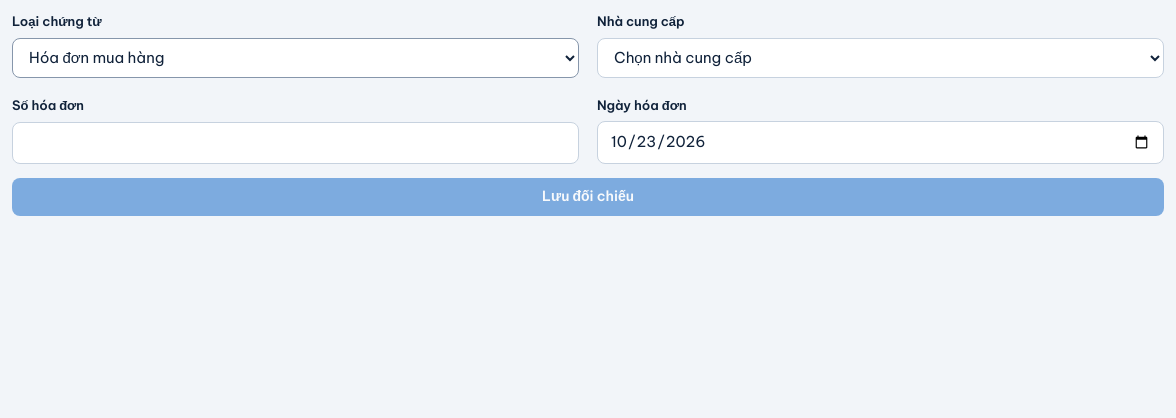
Test case: shows ordered, received and invoiced quantities with the order price source and flags differences (FB10)
The image size is (1176, 418).
Select "NCC Hòa Phát" in the dropdown labelled "Nhà cung cấp" at (880, 58), box [597,38,1164,78]
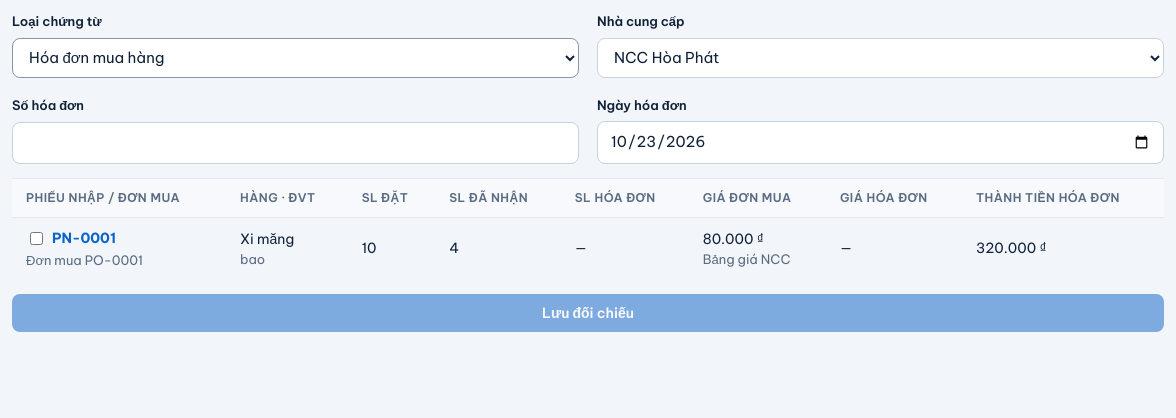
Now the text "Đơn mua PO-0001" is shown, box [26,252,143,268]
Now the text "Bảng giá NCC" is shown, box [703,250,790,266]
Now the text "10" is shown, box [348,217,435,280]
Click the checkbox named "Chọn PN-0001 Xi măng" at (36, 238), box [30,232,43,244]
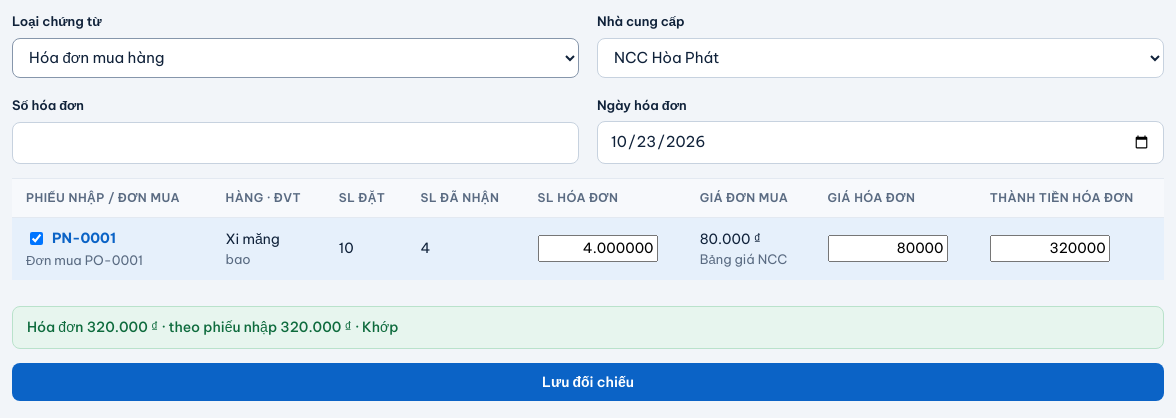
Now the text "Hóa đơn 320.000 ₫ · theo phiếu nhập 320.000 ₫ · Khớp" is shown, box [12,306,1164,349]
Replace the text in the field named "Giá hóa đơn PN-0001 Xi măng" with "85000" at (888, 249), box [828,235,948,262]
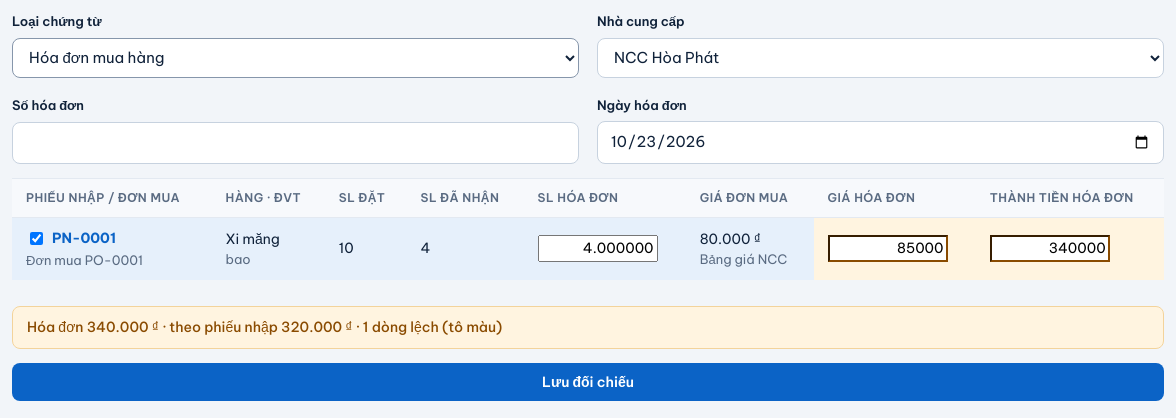
Now the field named "Thành tiền hóa đơn PN-0001 Xi măng" holds "340000", box [990,235,1110,262]
Now the text "1 dòng lệch" is shown, box [363,318,502,336]
